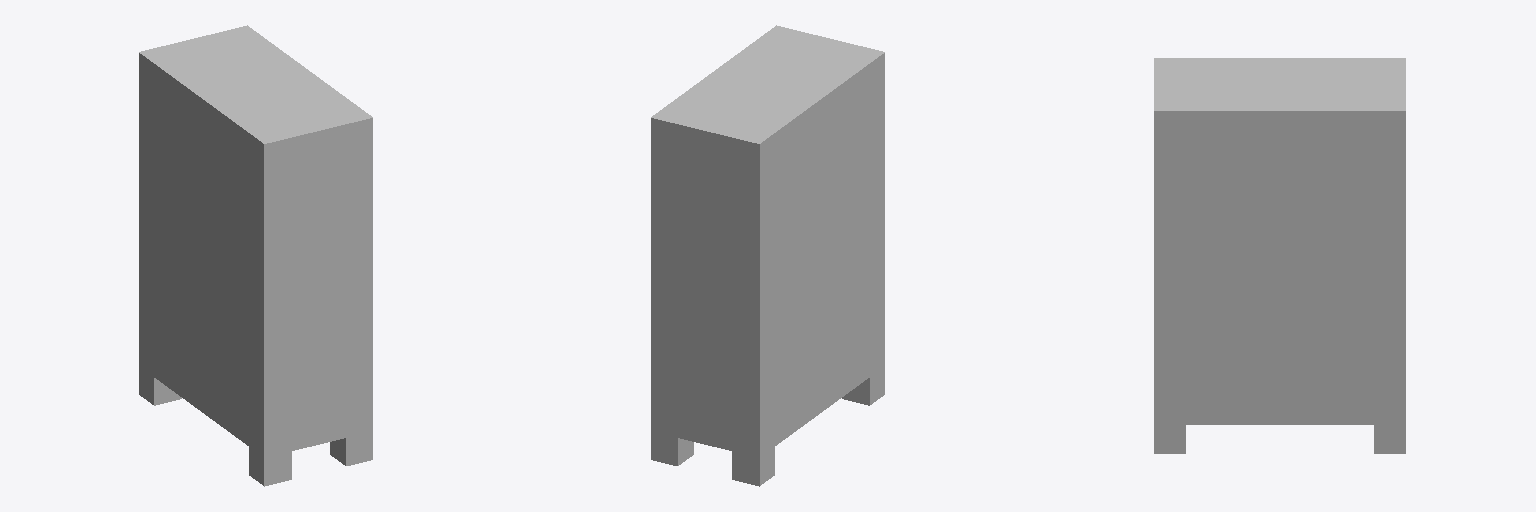
The model's file is ServerRack01.obj.
3 renders of one model, left to right at view 1: azimuth 30°, elevation 25°; view 2: azimuth 150°, elevation 25°; view 3: azimuth 270°, elevation 25°, orthographic.
Parts seen in each view (by area): view 1: object 1; view 2: object 1; view 3: object 1.
Boxes of the visible parts, x1,y1,x2,y2 form: object 1: [139, 25, 372, 486]; object 1: [651, 25, 884, 486]; object 1: [1154, 58, 1405, 453].
Size of the model in its own units: 0.4 by 1.2 by 0.8.